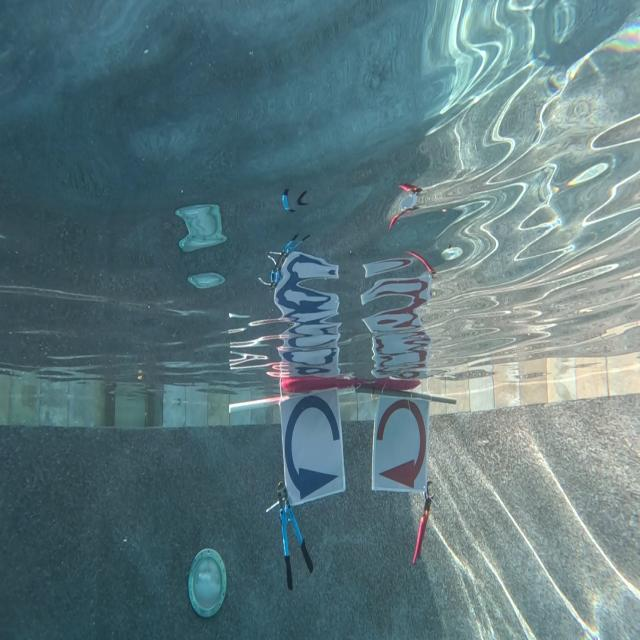blue_side: (280, 392, 346, 508)
red_side: (372, 393, 430, 495)
